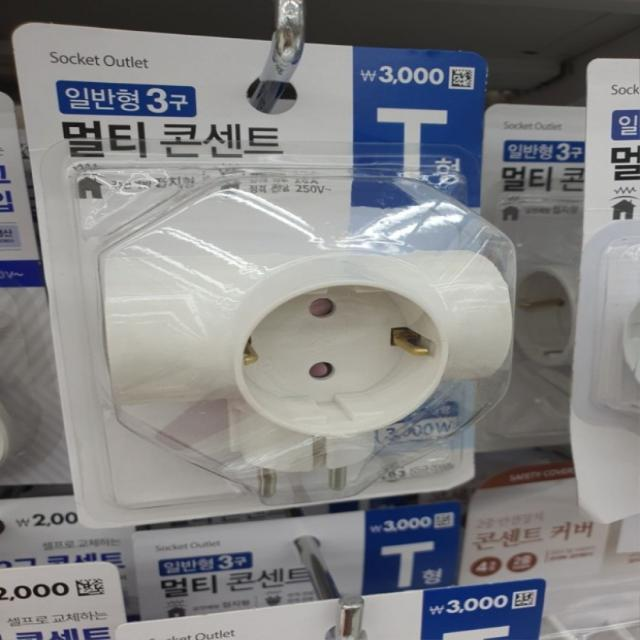typeb: (171, 206, 494, 460)
